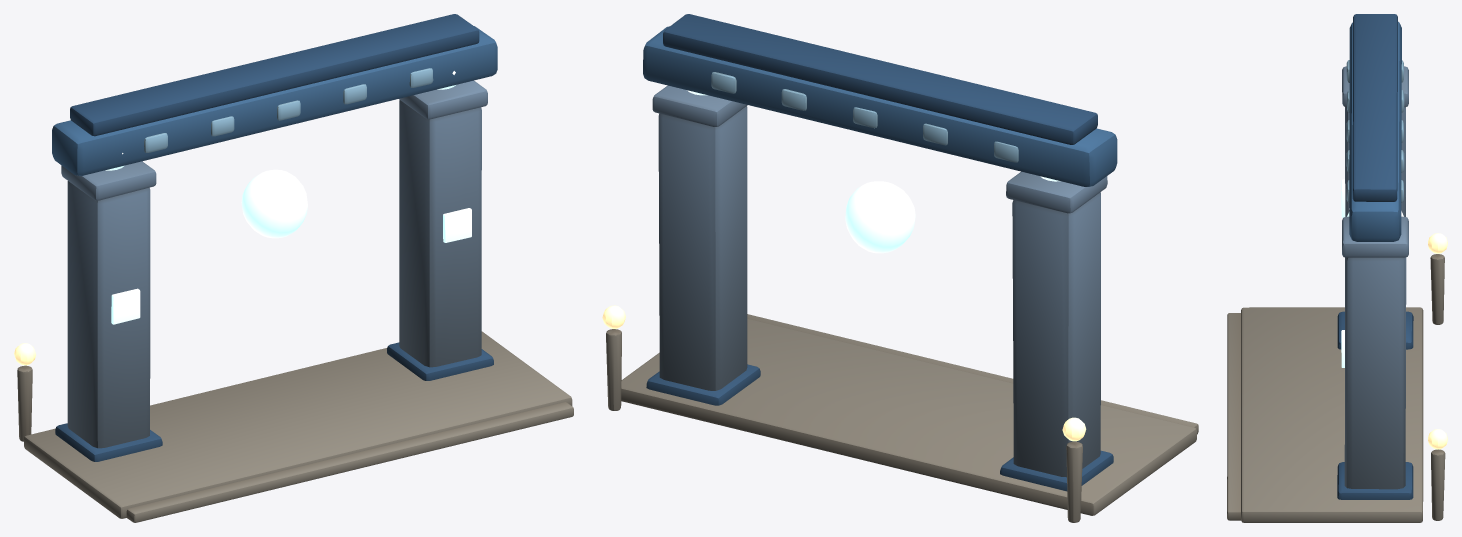
3 renders of one model, left to right at view 1: azimuth 30°, elevation 25°; view 2: azimuth 150°, elevation 25°; view 3: azimuth 270°, elevation 25°, orthographic. The views are drawn at different scales.
Parts seen in each view (by area): view 1: gate_796f4818; view 2: gate_796f4818; view 3: gate_796f4818.
Part boxes in pixels (<box>): gate_796f4818: <box>14,14,573,522</box>; gate_796f4818: <box>602,14,1198,522</box>; gate_796f4818: <box>1227,14,1447,522</box>.
Size of the model in its own units: 5.6 by 4.09 by 2.55.
